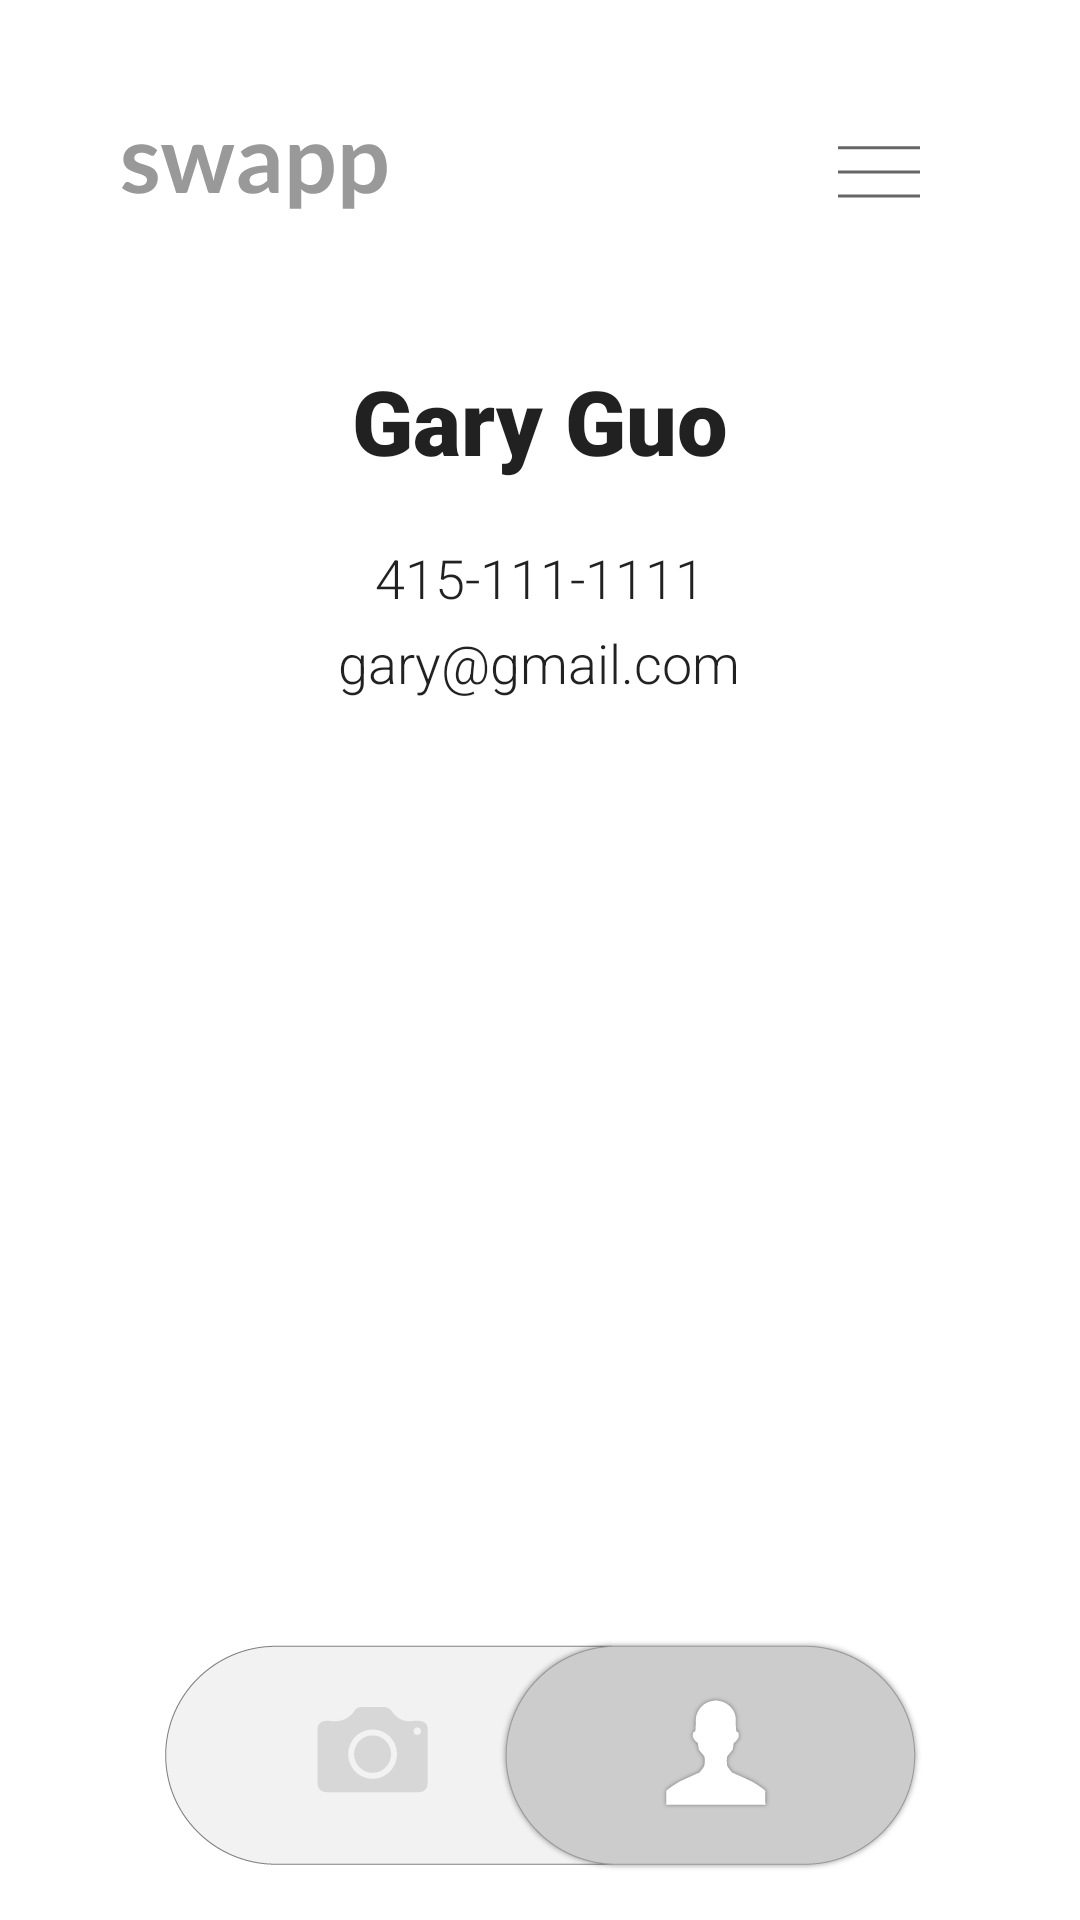

Icons on this 1080x1920 Android screen, each with the point to tap as point (x, y):
menu: point (879, 172)
